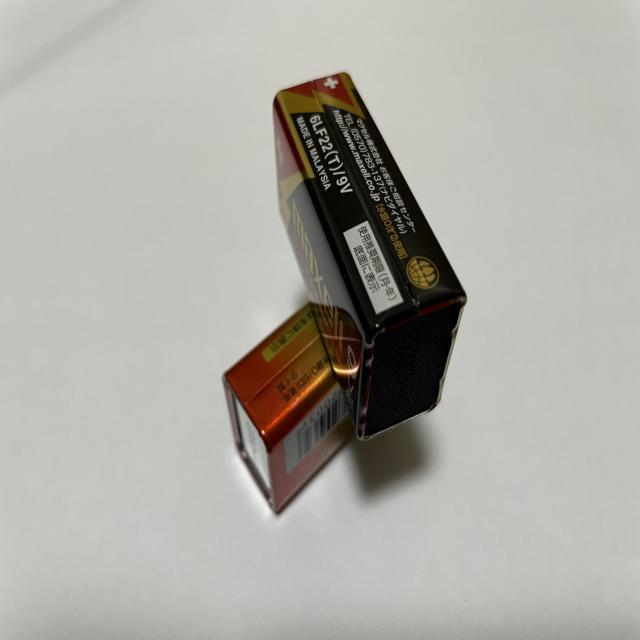9V: (272, 71, 469, 443), (222, 300, 356, 515)
